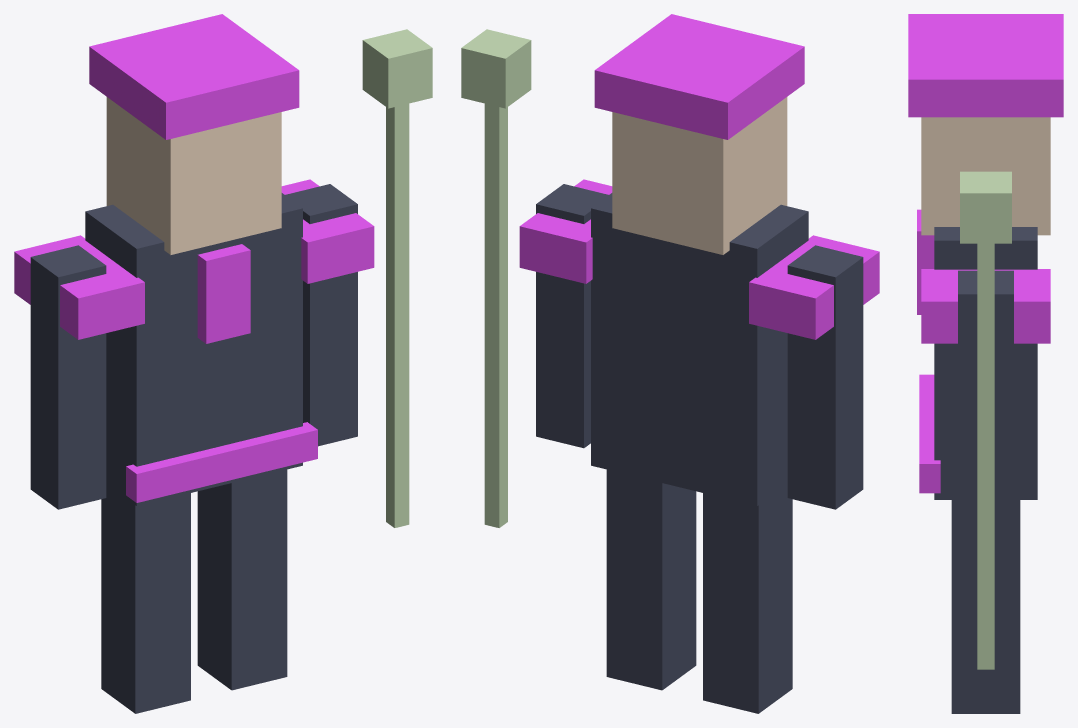
File: 20_elo_riftwalker_ranger_near_transit.glb
3 views of the same model, side by side, from view 1: azimuth 30°, elevation 25°; view 2: azimuth 150°, elevation 25°; view 3: azimuth 270°, elevation 25° (orthographic).
Parts seen in each view (by area): view 1: Elo Riftwalker, Ranger near Transit; view 2: Elo Riftwalker, Ranger near Transit; view 3: Elo Riftwalker, Ranger near Transit.
Boxes of the visible parts, left/top/right/bottom form: Elo Riftwalker, Ranger near Transit: left=14, top=14, right=432, bottom=713; Elo Riftwalker, Ranger near Transit: left=461, top=14, right=879, bottom=713; Elo Riftwalker, Ranger near Transit: left=908, top=14, right=1063, bottom=713.
Size of the model in its own units: 1.02 by 1.62 by 0.3612.
